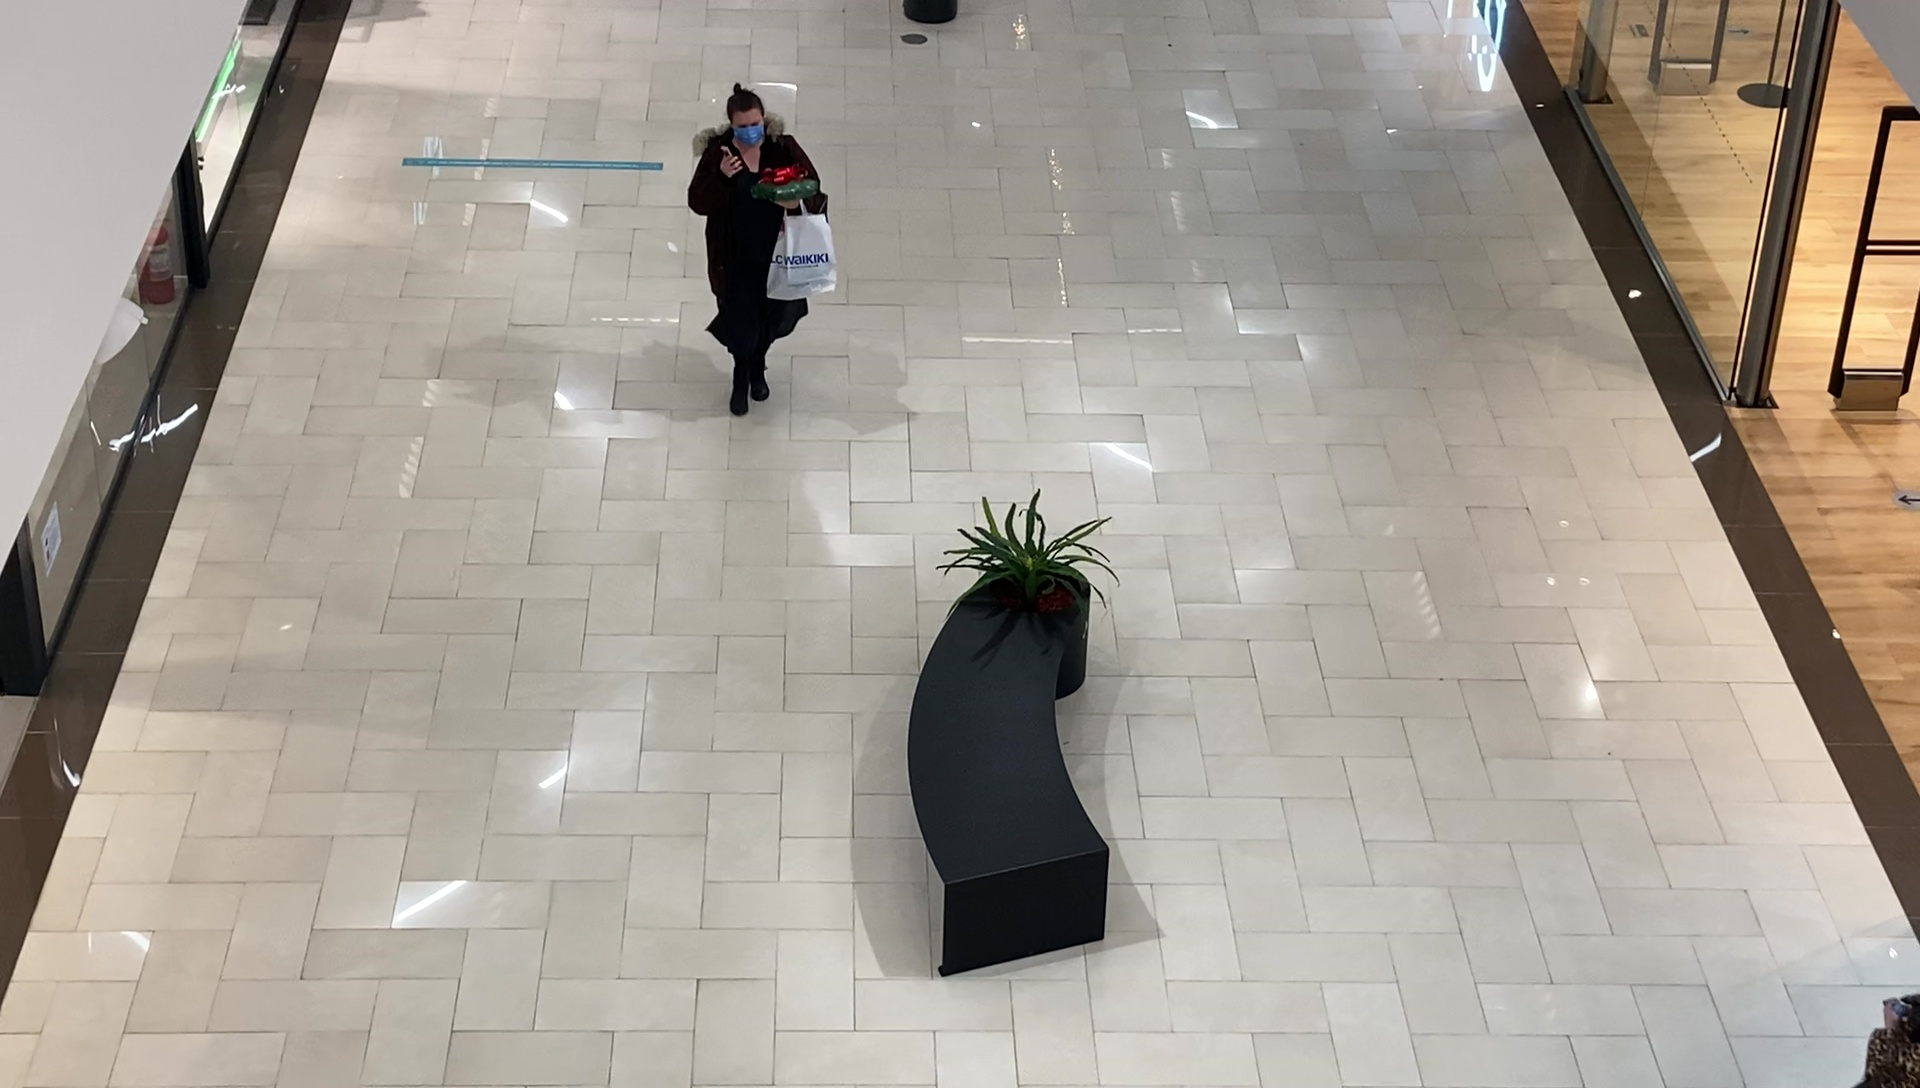person: (686, 84, 829, 419)
